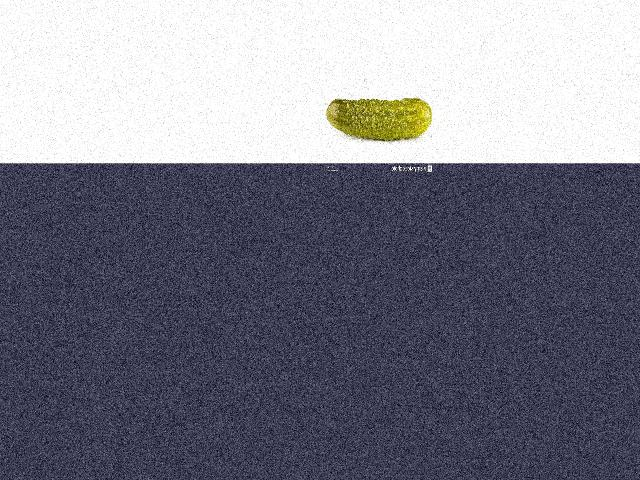cucumber: (324, 98, 431, 141)
